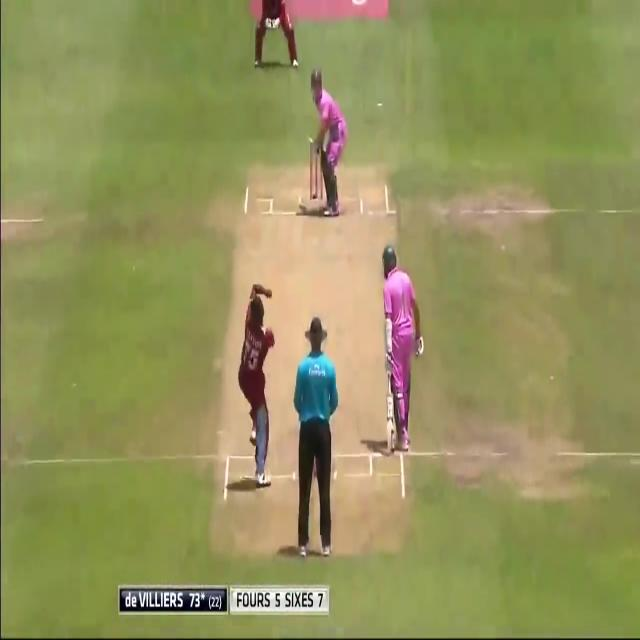Ball: (384, 248, 422, 452), (308, 69, 348, 215)
Fielder: (235, 279, 276, 482), (251, 0, 296, 67)
Umpire: (294, 315, 339, 560)
